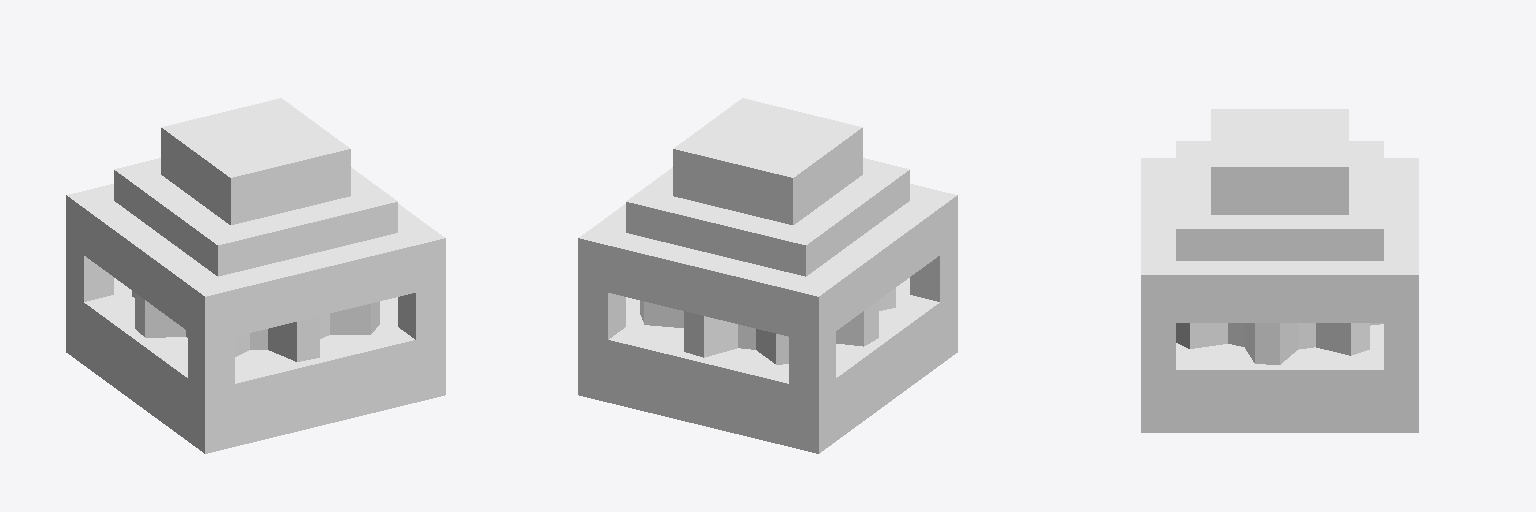
The model's file is engine.obj.
The picture shows the model from 3 angles: view 1: azimuth 30°, elevation 25°; view 2: azimuth 150°, elevation 25°; view 3: azimuth 270°, elevation 25°; orthographic projection.
Visible parts, largest first — view 1: base, upperbase, glider, gear; view 2: base, upperbase, glider, gear; view 3: base, glider, upperbase, gear.
Part boxes in pixels (x1,y1,x2,y2): base: (66,184,445,453); upperbase: (161,98,350,224); glider: (114,158,397,276); gear: (132,291,379,361); base: (578,184,957,453); upperbase: (673,98,862,224); glider: (626,158,909,276); gear: (640,288,895,364); base: (1141,158,1418,432); glider: (1176,141,1383,260); upperbase: (1211,109,1348,214); gear: (1176,323,1383,364).
Size of the model in its own units: 0.9956 by 0.9333 by 0.9956.